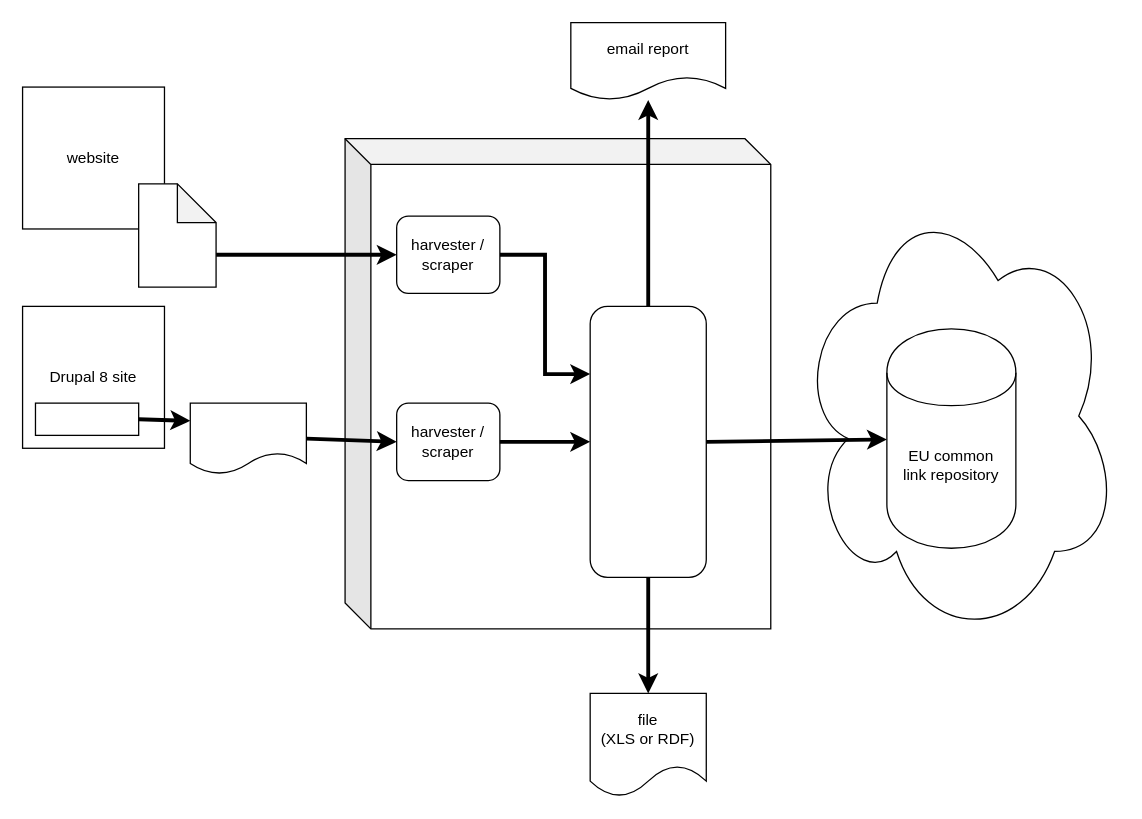
This 1142x819 diagram has some shape labels left out. The shapes that lost their labels are listed below. From the top down, each one's centre as x and y in pixels, then its label:
the point at 176,235: feed / view
the point at 86,418: Tag Module
the point at 247,438: export file
the point at 647,441: collect and transform tool
